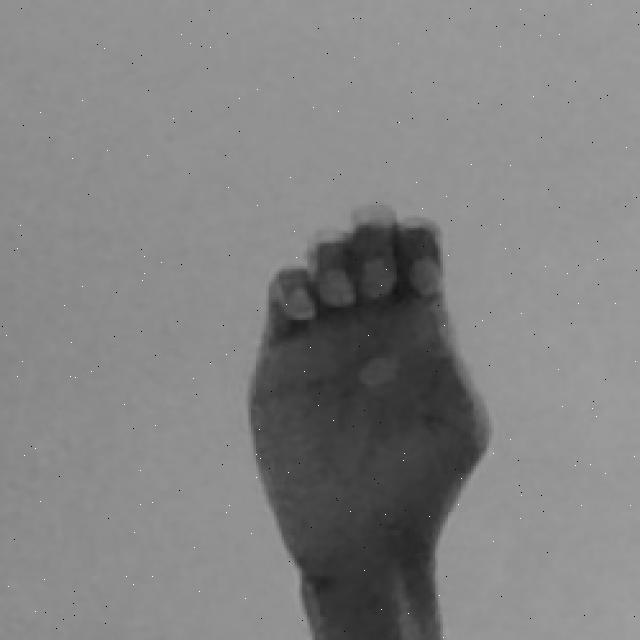E: (248, 197, 514, 640)
